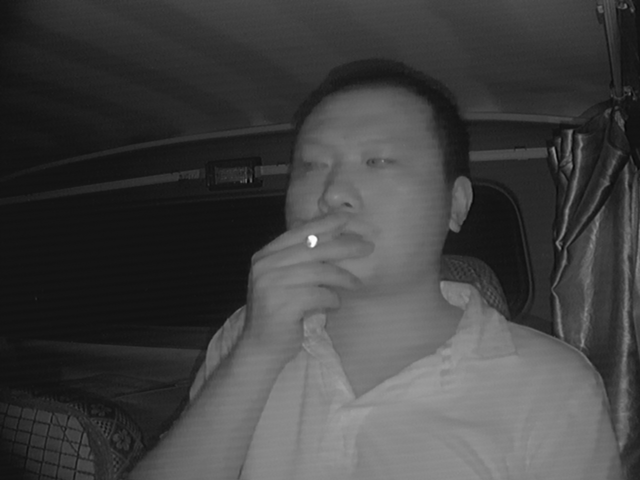hand: (256, 213, 369, 329)
